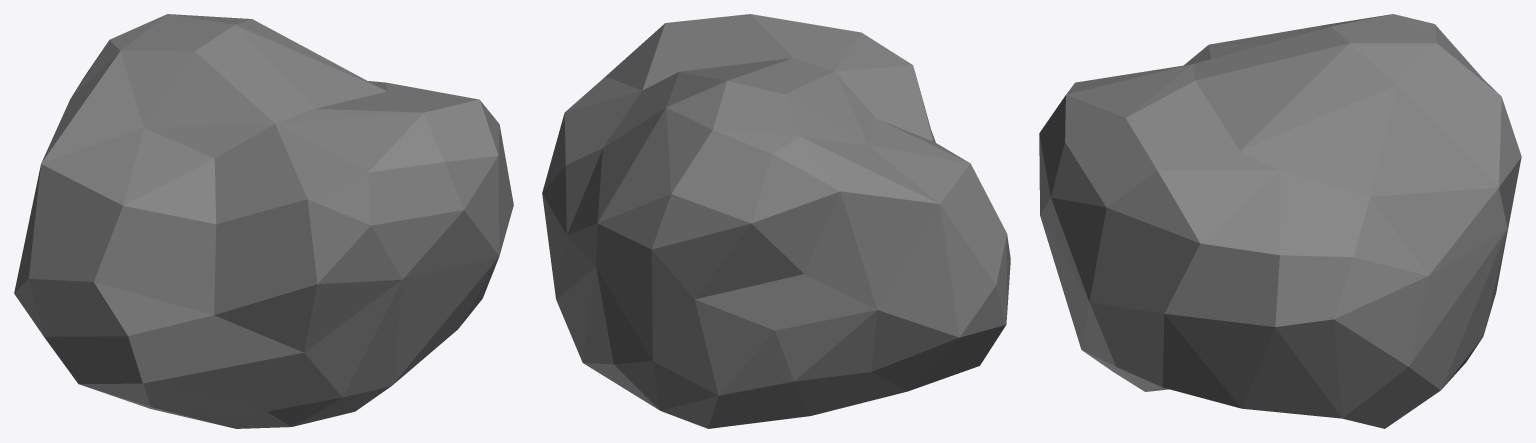
File: Rock 3.fbx
3 views of the same model, side by side, from view 1: azimuth 30°, elevation 25°; view 2: azimuth 150°, elevation 25°; view 3: azimuth 270°, elevation 25° (orthographic). The views are drawn at different scales.
Visible parts, largest first — view 1: Rock 3; view 2: Rock 3; view 3: Rock 3.
Part boxes in pixels (x1,y1,x2,y2): Rock 3: [14, 14, 513, 428]; Rock 3: [542, 14, 1010, 428]; Rock 3: [1039, 14, 1521, 428].
Size of the model in its own units: 65.82 by 44.32 by 58.08.
